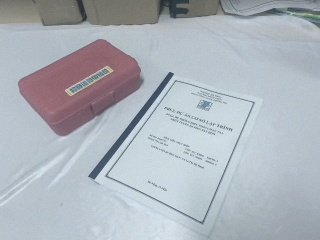box: (17, 36, 143, 137), (79, 1, 163, 27), (32, 1, 87, 26), (164, 1, 222, 19)
